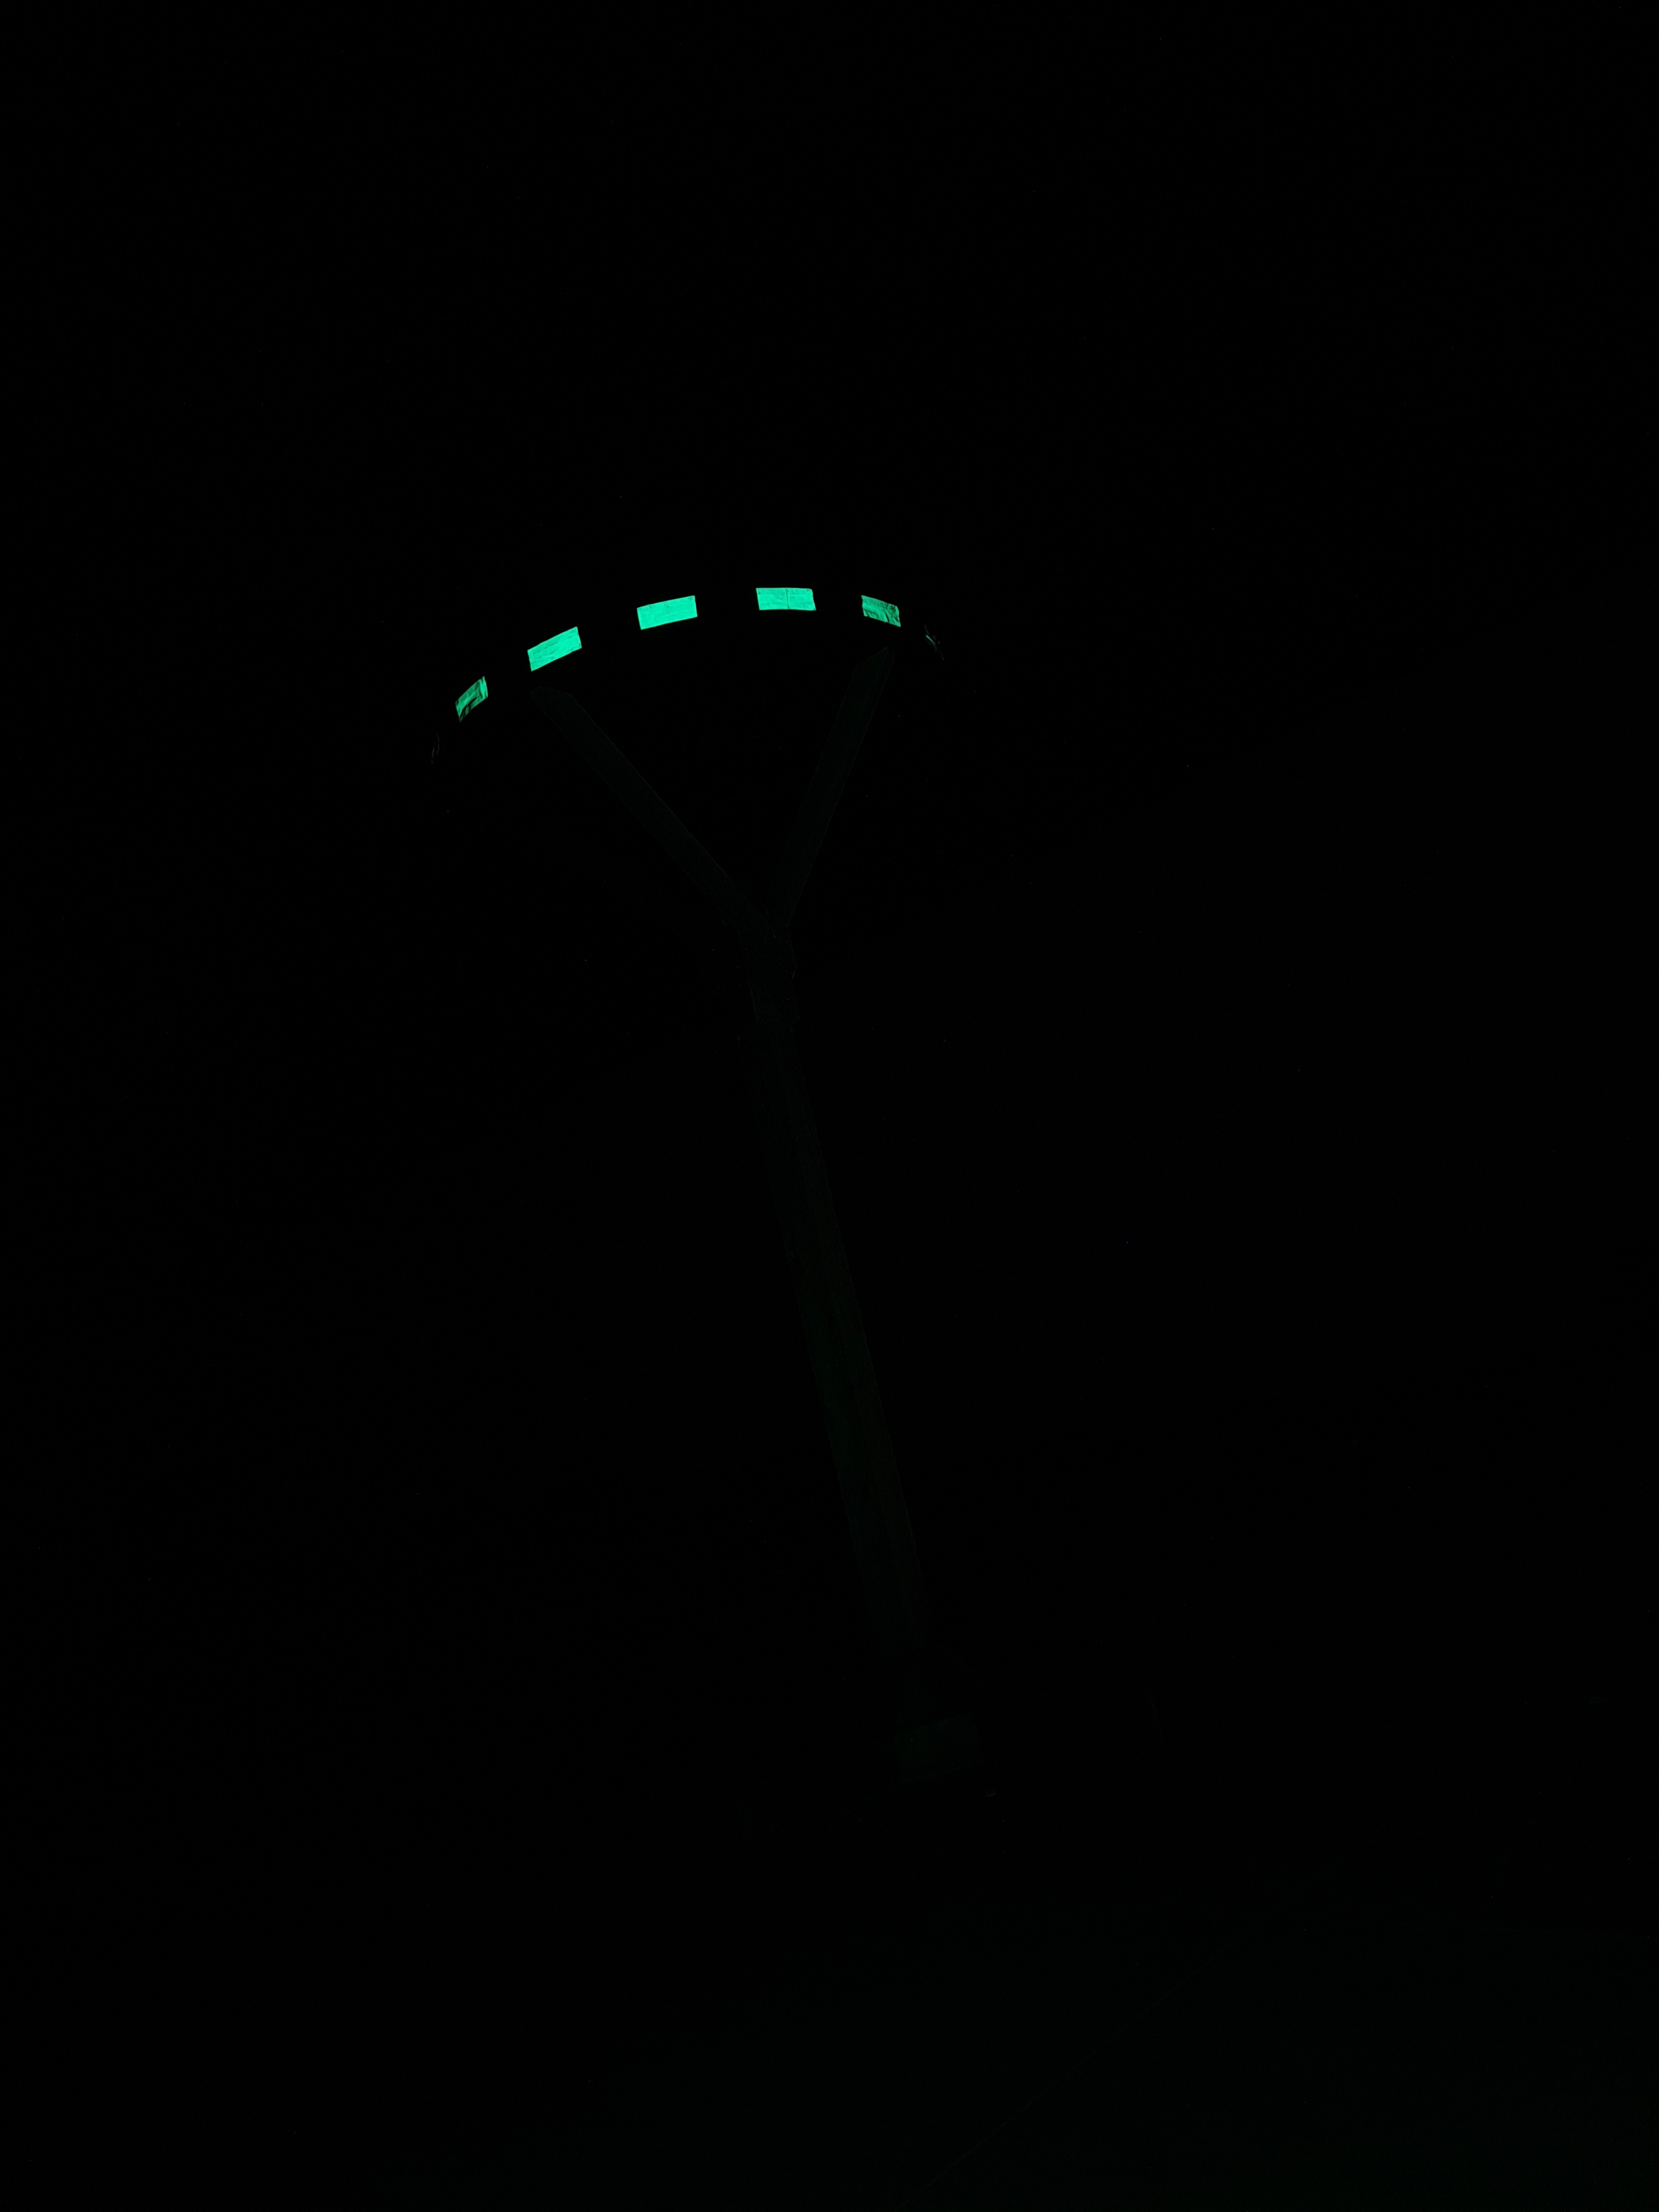hoop: (450, 585, 906, 726)
